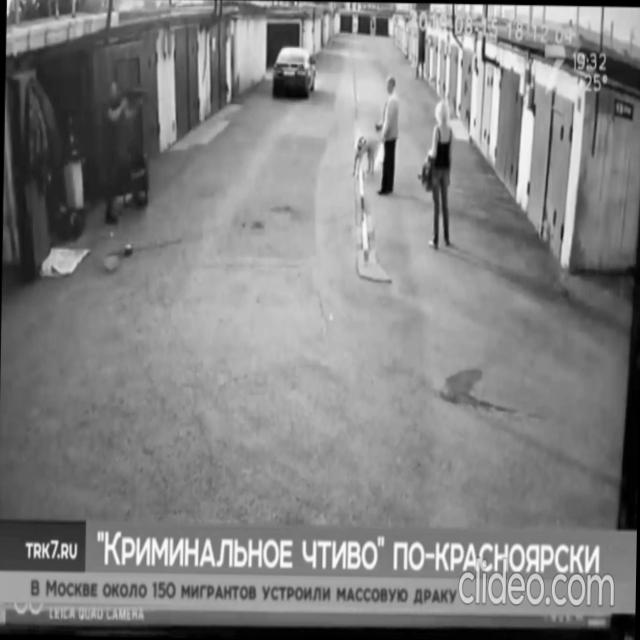gun: (118, 87, 150, 102)
person: (418, 98, 456, 253), (373, 74, 401, 198)
person with a gun: (102, 80, 152, 226)
